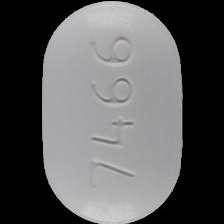63629-5431: (0, 0, 224, 224)
